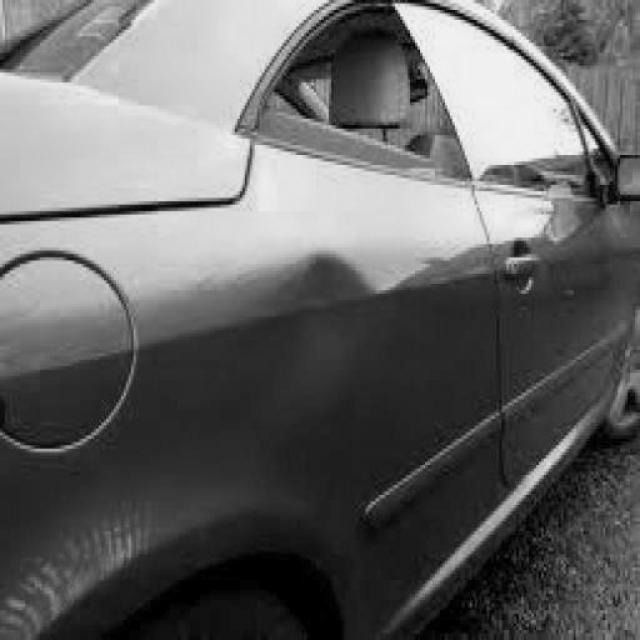car damage: (287, 248, 391, 398)
